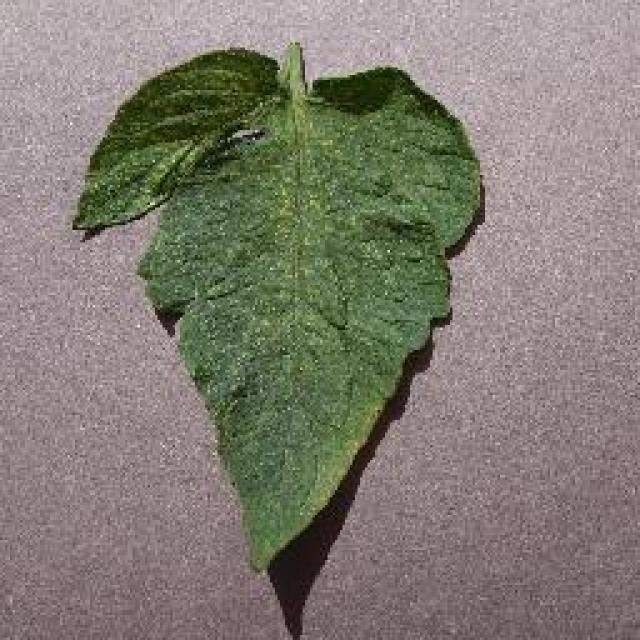Tomato___Spider_mites Two-spotted_spider_mite: (72, 42, 480, 565)
